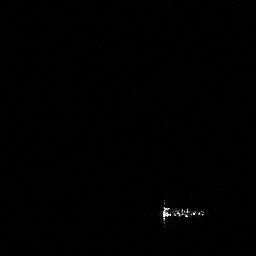ship: (159, 199, 208, 230)
